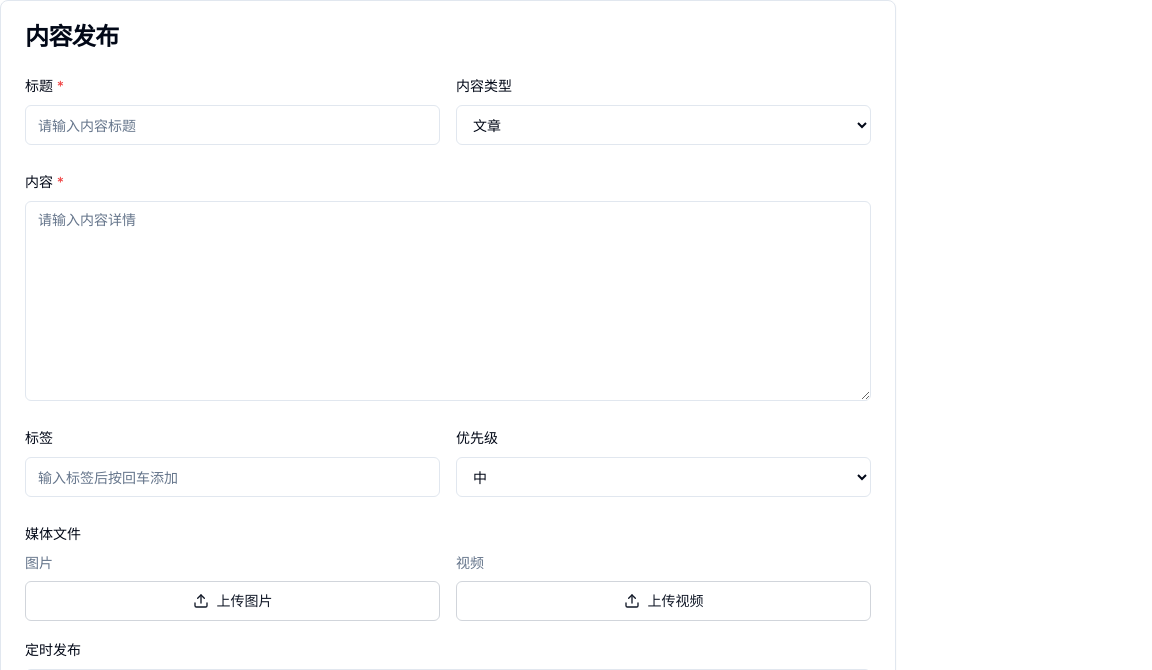
Test: ContentForm › 应该正确处理标签添加
Step 1. Type "测试标签" into the field labelled "标签" → (232, 477), box [25,457,440,497]
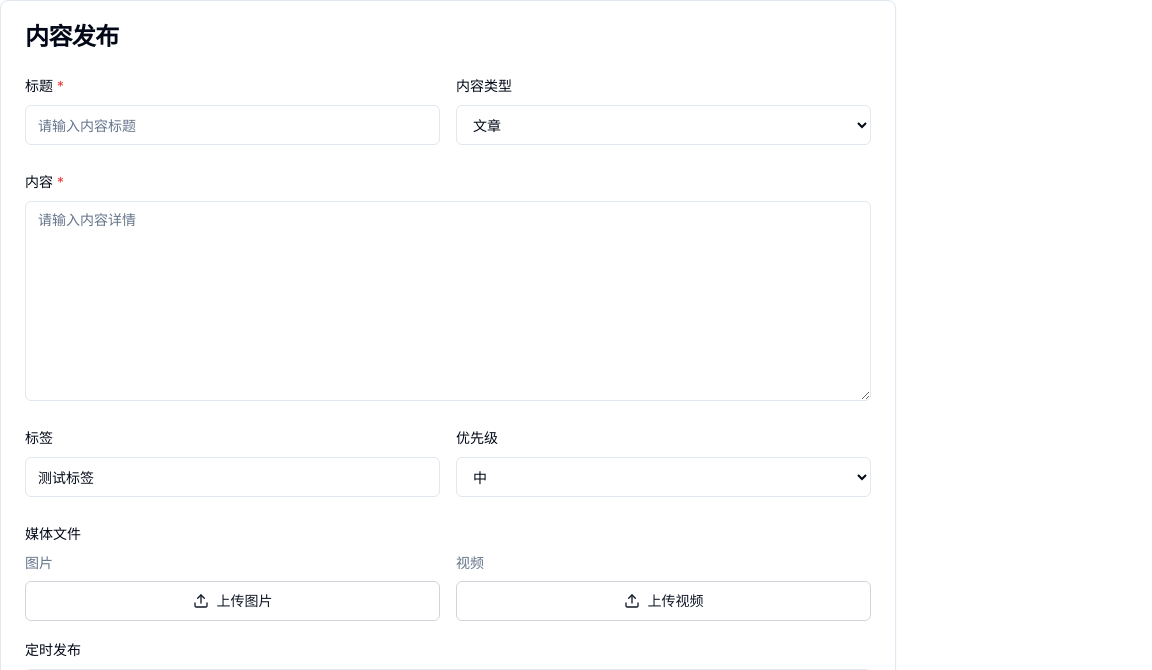
Step 2. Press Enter in the field labelled "标签", box [25,457,440,497]
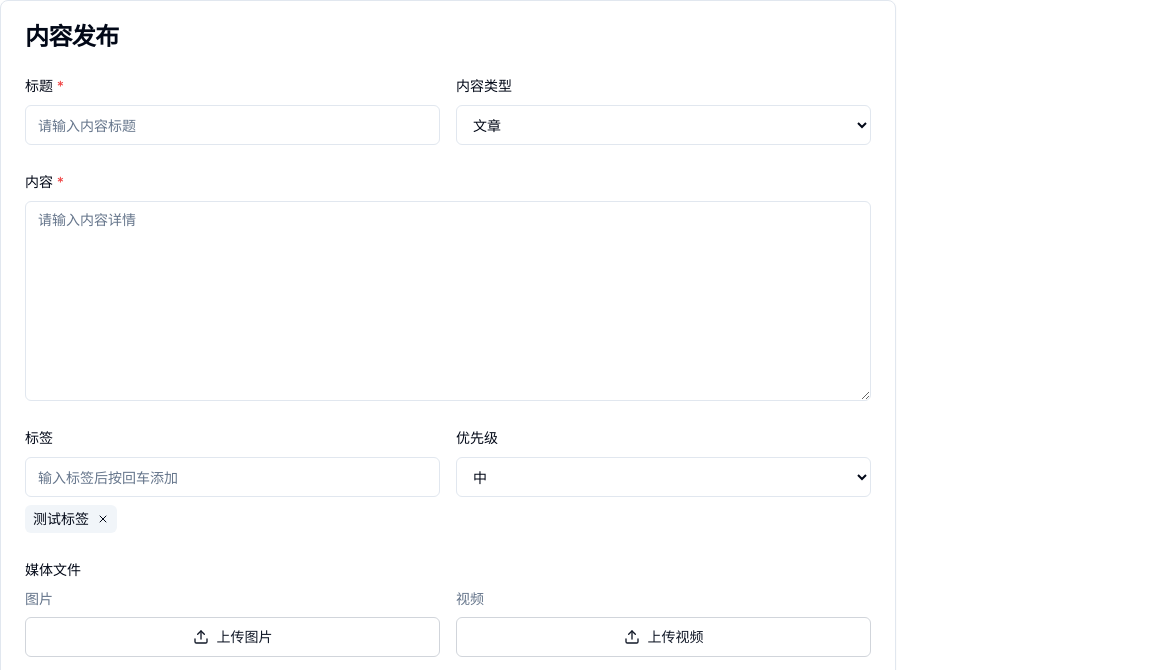
Expected: the text "测试标签" is shown, [25,505,117,533]
